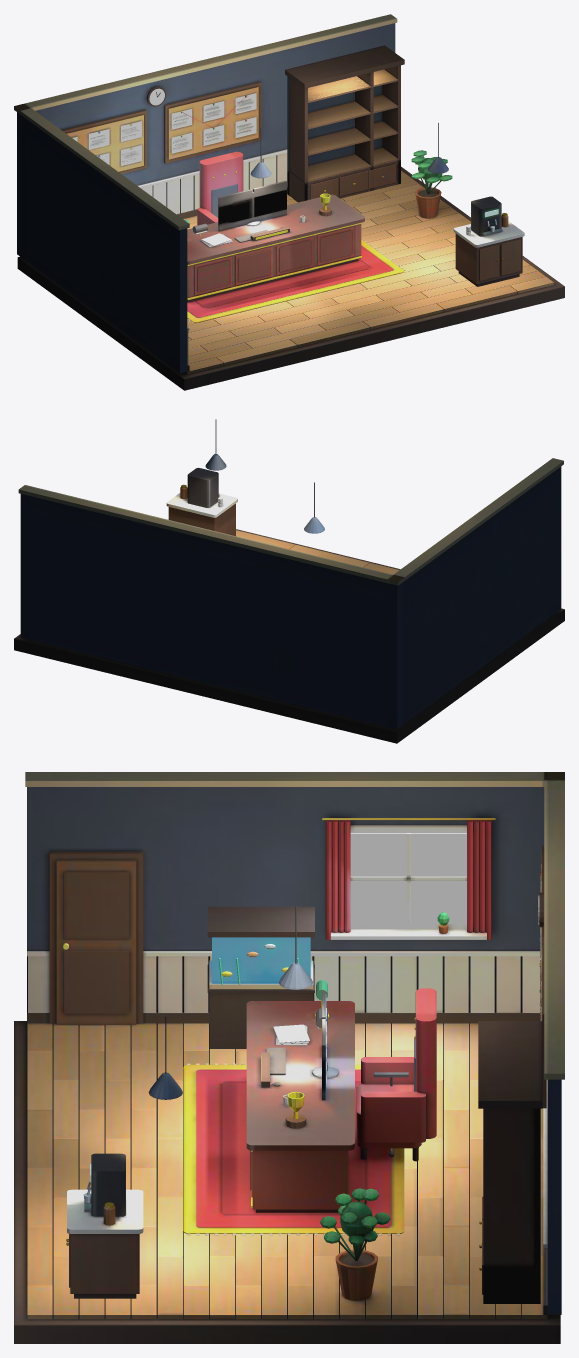
File: raum_buero.glb
3 views of the same model, one above another, from view 1: azimuth 30°, elevation 25°; view 2: azimuth 150°, elevation 25°; view 3: azimuth 270°, elevation 25° (orthographic). The views are drawn at different scales.
Visible parts, largest first — view 1: huelle, schrank_g, tisch_c, schrank_k, teppich, kaffee, sessel, mon2c, mon2n, mon1c; view 2: huelle, kaffee; view 3: huelle, tisch_c, schrank_g, teppich, aquarium, kaffee, sessel.
Boxes of the visible parts, x1=… form: huelle: x1=14, y1=14, x2=564, y2=390; schrank_g: x1=285, y1=45, x2=404, y2=200; tisch_c: x1=185, y1=193, x2=364, y2=302; schrank_k: x1=287, y1=52, x2=376, y2=202; teppich: x1=187, y1=239, x2=405, y2=322; kaffee: x1=453, y1=196, x2=524, y2=286; sessel: x1=197, y1=151, x2=243, y2=225; mon2c: x1=218, y1=181, x2=286, y2=224; mon2n: x1=218, y1=190, x2=286, y2=231; mon1c: x1=232, y1=191, x2=260, y2=225; huelle: x1=14, y1=419, x2=564, y2=743; kaffee: x1=166, y1=467, x2=237, y2=536; huelle: x1=14, y1=772, x2=564, y2=1343; tisch_c: x1=246, y1=980, x2=354, y2=1212; schrank_g: x1=478, y1=1021, x2=542, y2=1303; teppich: x1=183, y1=1063, x2=404, y2=1235; aquarium: x1=207, y1=906, x2=314, y2=1048; kaffee: x1=66, y1=1153, x2=143, y2=1298; sessel: x1=356, y1=988, x2=436, y2=1161.
Size of the model in its own units: 8.35 by 3.38 by 6.35.
1 material, 1 textured.
